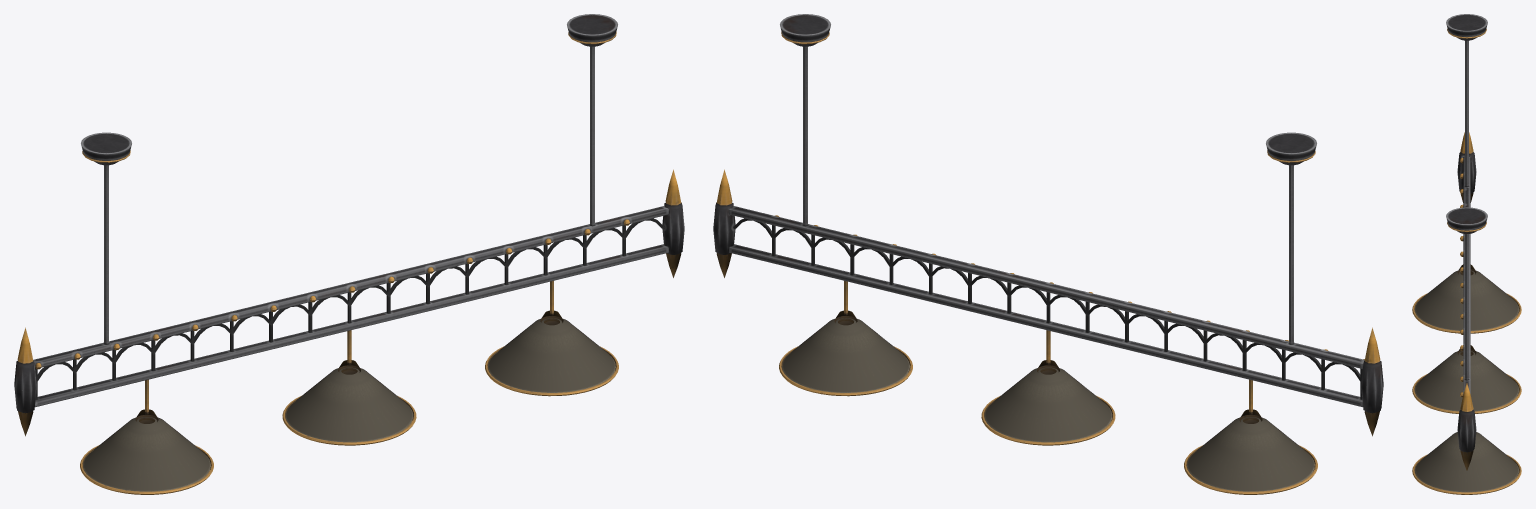
Rendered from ClassroomTriPendant.fbx.
3 views of the same model, side by side, from view 1: azimuth 30°, elevation 25°; view 2: azimuth 150°, elevation 25°; view 3: azimuth 270°, elevation 25° (orthographic). The views are drawn at different scales.
Visible parts, largest first — view 1: ClassroomTriPendant_Main; view 2: ClassroomTriPendant_Main; view 3: ClassroomTriPendant_Main.
Boxes of the visible parts, <box> form: ClassroomTriPendant_Main: <box>14,14,684,494</box>; ClassroomTriPendant_Main: <box>713,14,1383,494</box>; ClassroomTriPendant_Main: <box>1412,14,1521,494</box>.
Size of the model in its own units: 660 by 316 by 115.
